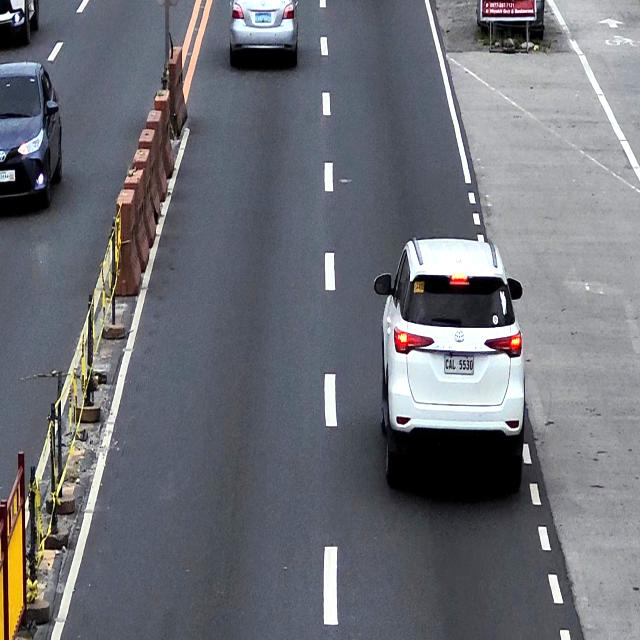Car: (375, 234, 526, 500), (228, 0, 300, 70)
License-Plate: (444, 354, 474, 375), (255, 12, 272, 24)
